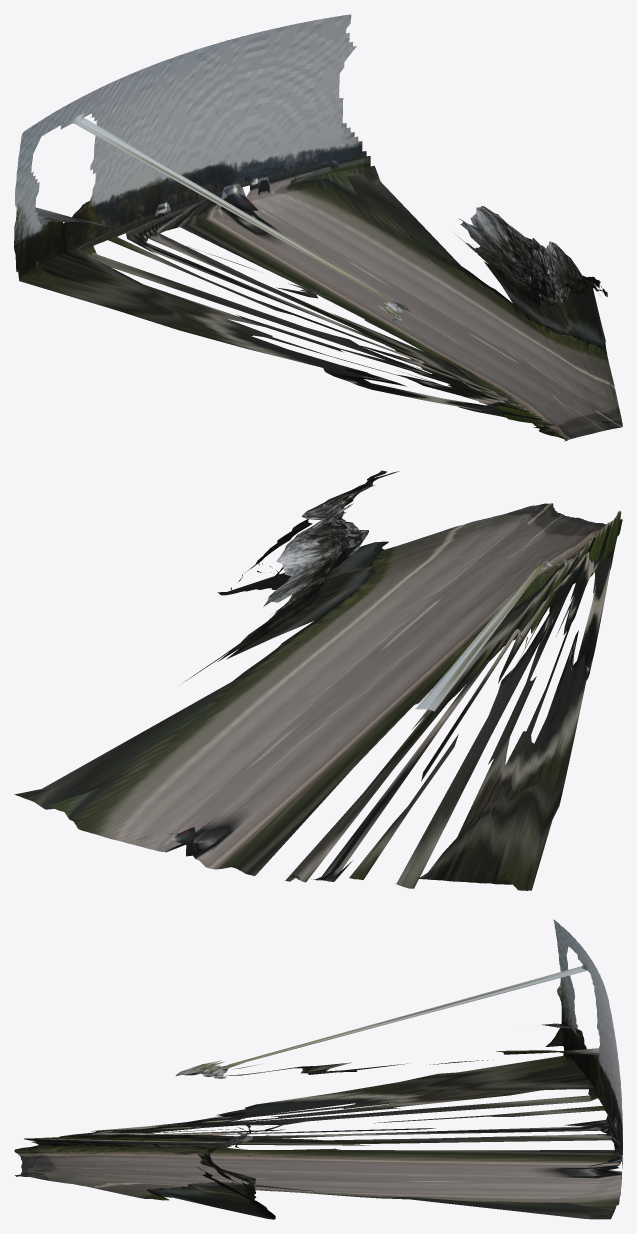
The picture shows the model from 3 angles, top to bottom: view 1: azimuth 30°, elevation 25°; view 2: azimuth 150°, elevation 25°; view 3: azimuth 270°, elevation 25°; orthographic projection. The views are drawn at different scales.
Visible parts, largest first — view 1: defaultobject; view 2: defaultobject; view 3: defaultobject.
Part boxes in pixels (x1,y1,x2,y2): defaultobject: [14, 14, 622, 441]; defaultobject: [14, 470, 622, 890]; defaultobject: [14, 919, 622, 1219].
Bounding box in the file's own units: 31.52 × 12.85 × 44.92.
Materials: 1 (1 with a texture image).
